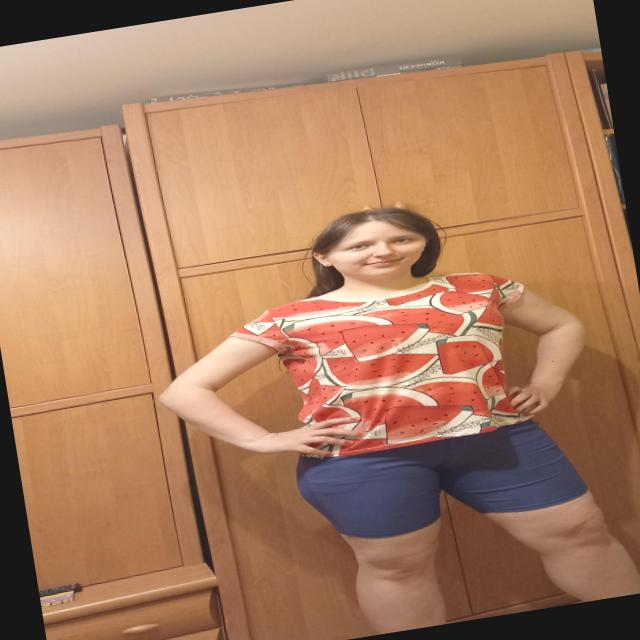Tshirt: (224, 262, 546, 471)
short: (292, 412, 590, 550)
